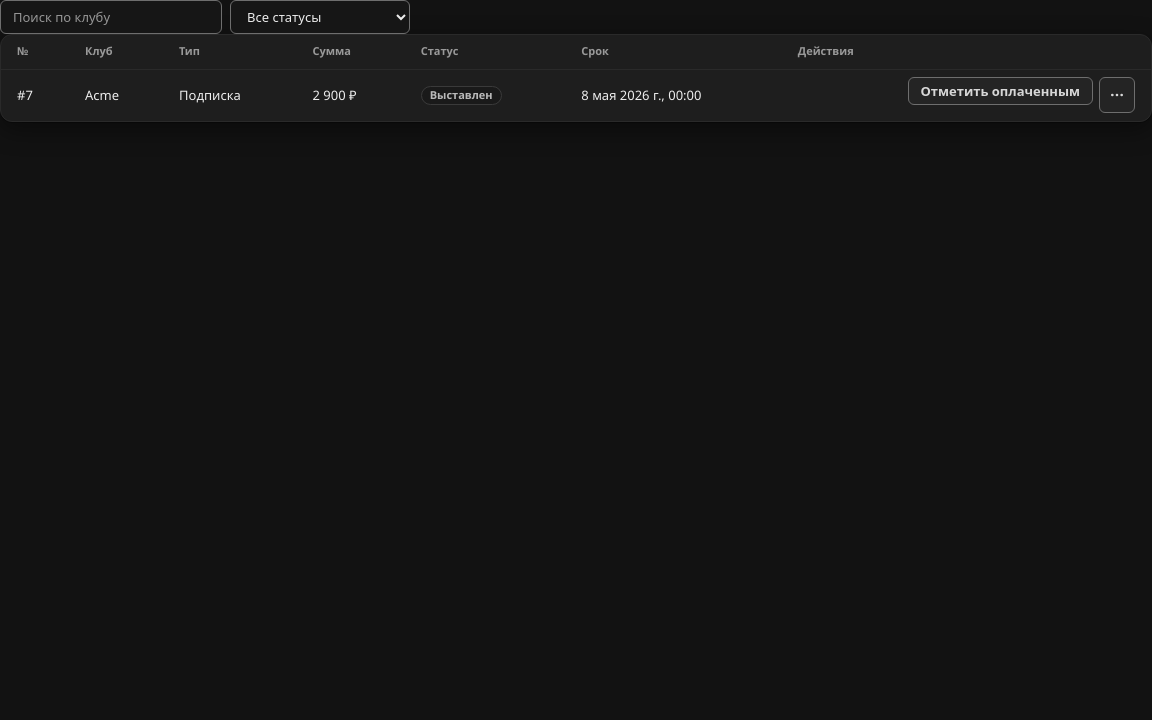
Test: InvoicesTab › называет причину отказа словами сервера, а не общим «не удалось»
The image size is (1152, 720).
Expected: the text "Acme" is shown, [69,69,163,121]
Click the button "Отметить оплаченным" at (1000, 91), box [908,77,1093,105]
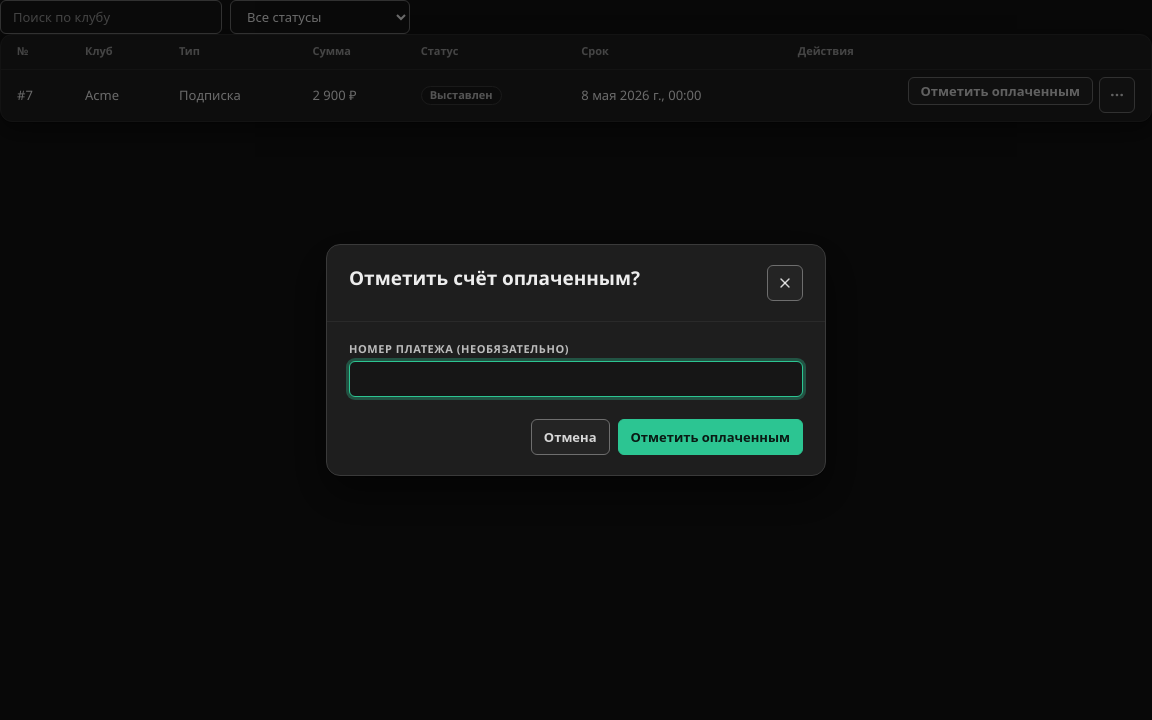
Result: the button "Отметить оплаченным" is enabled
Click the button "Отметить оплаченным" at (710, 437), box [618,419,803,455]
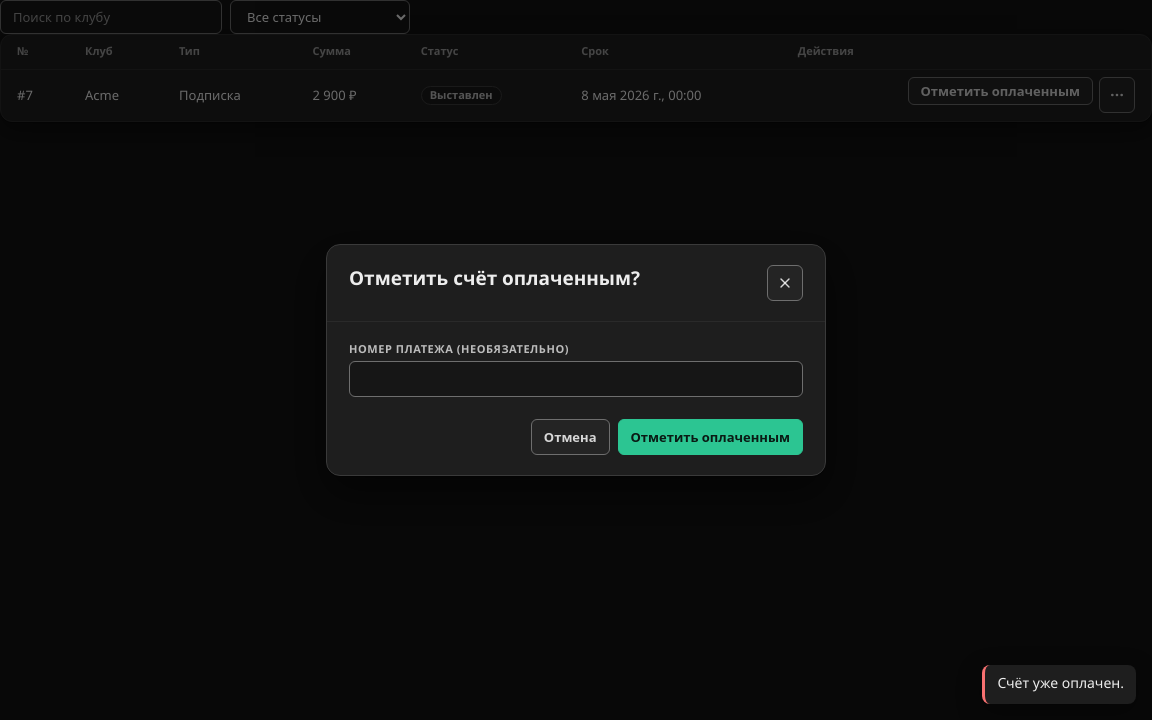
Result: the text "Счёт уже оплачен." is shown at [998,675,1124,694]
